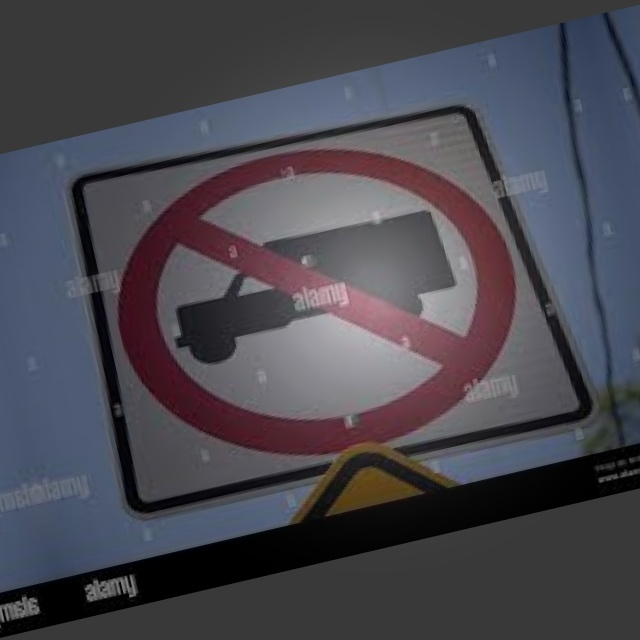Truck_Prohibited: (90, 100, 558, 490)
